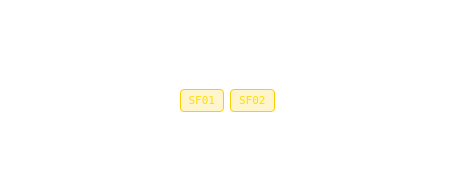
Inspector Component (Story 7.7) › FlagsList (AC #2, #6) › should switch detail when clicking different flag
Click the button with test id "flag-SF01" at (202, 100), box [180,88,224,112]
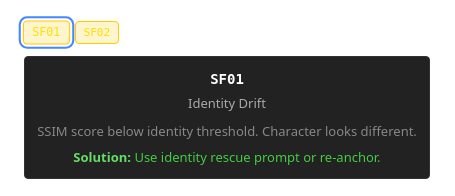
Check: the text "Identity Drift" is shown, box [188,94,266,112]
Click the button with test id "flag-SF02" at (97, 33), box [75,21,119,44]
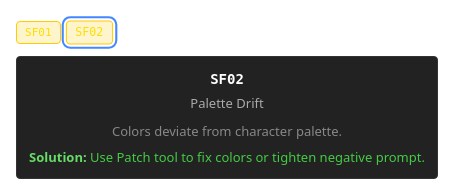
Check: the text "Palette Drift" is shown, box [190,94,264,112]
